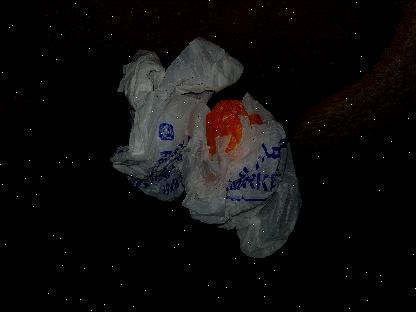Others: (105, 36, 303, 258)
